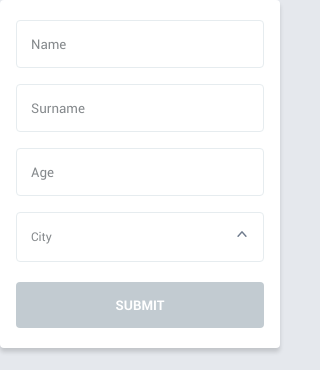
Test: Edit data tests › Validation data tests › Age more than
The width and height of the screenshot is (320, 370).
Type "65" into the number field with placeholder "Age" at (140, 172), box [16,148,264,196]
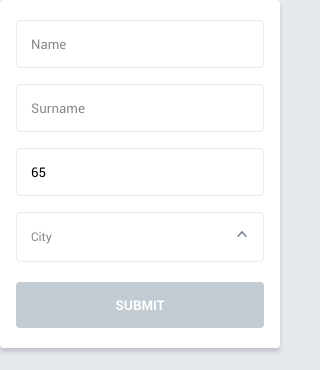
Press Tab
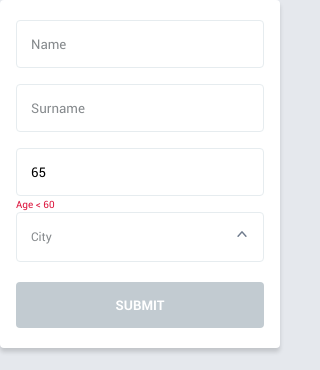
Check: the text "Age < 60" is shown, box [16,196,55,212]
